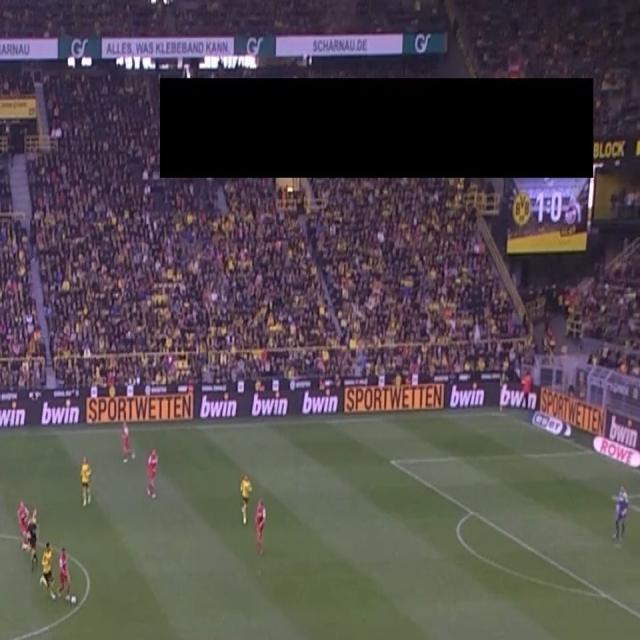ball: (70, 594, 78, 606)
